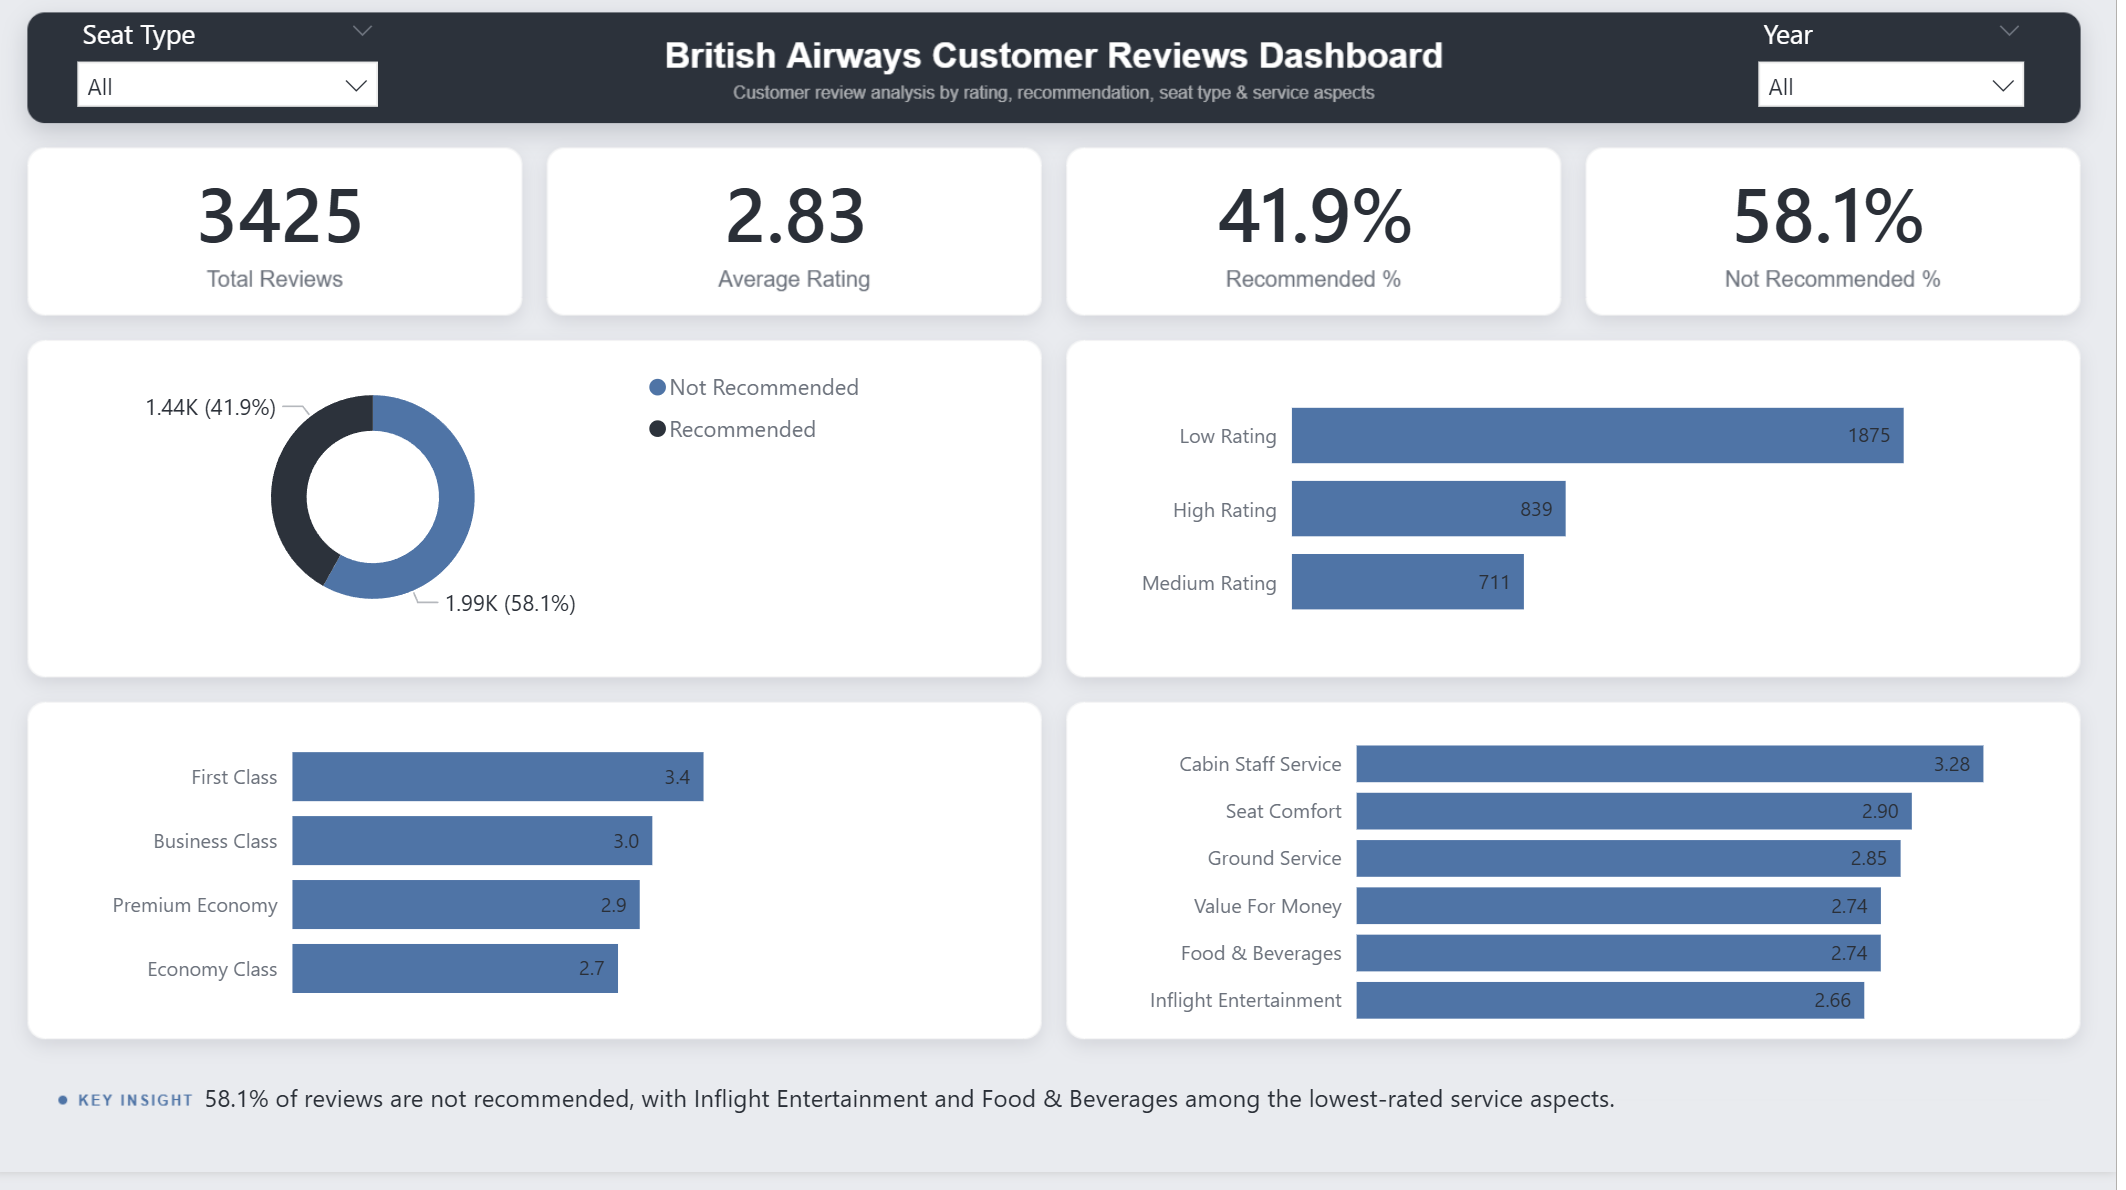

The page's visual inventory and layout, read from the dashboard file:
{"tool":"powerbi","page":{"name":"Page 1","canvas":[1280,720],"ordinal":0},"visuals":[{"type":"card","fields":{"Values":["ba_reviews_powerbi_main.Total Reviews"]},"box":[82.6,104.9,182.6,72.3],"z":0},{"type":"card","fields":{"Values":["ba_reviews_powerbi_main.Average Rating"]},"box":[393.5,104.9,182.6,72.3],"z":1000},{"type":"card","fields":{"Values":["ba_reviews_powerbi_main.Recommended %"]},"box":[712.3,104.9,171.1,72.3],"z":2000},{"type":"card","fields":{"Values":["ba_reviews_powerbi_main.Not Recommended %"]},"box":[1023.3,104.9,166.9,72.3],"z":3000},{"type":"donutChart","title":"Recommendation Status Distribution","fields":{"Category":["ba_reviews_powerbi_main.Recommendation_Status"],"Y":["ba_reviews_powerbi_main.Total Reviews"]},"box":[59.1,229,477.9,168.7],"z":4000},{"type":"barChart","title":"Rating Level Distribution","fields":{"Category":["ba_reviews_powerbi_main.Rating_Level"],"Y":["ba_reviews_powerbi_main.Total Reviews"]},"box":[680.4,229,509.8,176.6],"z":5000},{"type":"clusteredBarChart","title":"Average Rating by Seat Type","fields":{"Category":["ba_reviews_powerbi_main.Seat Type"],"Y":["ba_reviews_powerbi_main.Average Rating"]},"box":[59.1,438.7,465.8,195.3],"z":6000},{"type":"clusteredBarChart","title":"Service Rating Breakdown","fields":{"Category":["service_ratings.Service Aspect"],"Y":["Avg(service_ratings.Rating)"]},"box":[680.4,438.7,554.4,206.1],"z":7000},{"type":"slicer","fields":{"Values":["ba_reviews_powerbi_main.Seat Type"]},"box":[41.6,18.1,144,65.1],"z":9000},{"type":"slicer","fields":{"Values":["ba_reviews_powerbi_main.Year"]},"box":[1093.2,18.1,141.6,65.1],"z":10000},{"type":"textbox","box":[122.9,659.9,861.8,37.4],"z":11000}]}

Visuals, with their boxes in screenshot pixels (x1, y1, x2, y2), scaled from the page's 1280x720 canvas onto the 2126x1190 screenshot:
card - ba_reviews_powerbi_main.Total Reviews: 137, 173, 440, 293
card - ba_reviews_powerbi_main.Average Rating: 654, 173, 957, 293
card - ba_reviews_powerbi_main.Recommended %: 1183, 173, 1467, 293
card - ba_reviews_powerbi_main.Not Recommended %: 1700, 173, 1977, 293
"Recommendation Status Distribution" donutChart: 98, 378, 892, 657
"Rating Level Distribution" barChart: 1130, 378, 1977, 670
"Average Rating by Seat Type" clusteredBarChart: 98, 725, 872, 1048
"Service Rating Breakdown" clusteredBarChart: 1130, 725, 2051, 1066
slicer - ba_reviews_powerbi_main.Seat Type: 69, 30, 308, 138
slicer - ba_reviews_powerbi_main.Year: 1816, 30, 2051, 138
textbox: 204, 1091, 1636, 1152
